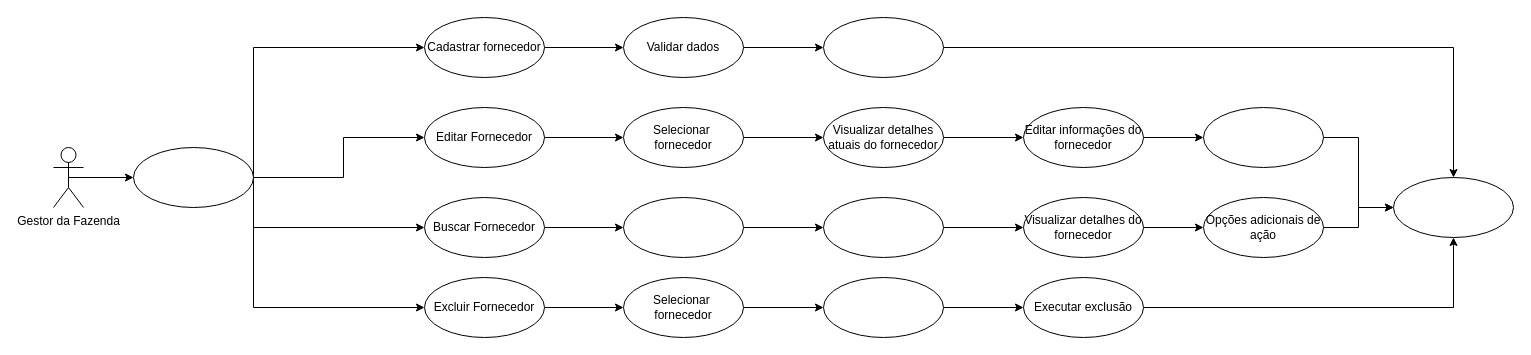
The diagram is 1531 pixels wide and 355 high, and some of its shapes have lost their labels. Each missing label, with the box of its shape:
Apresentar resultados da busca: (822, 196, 944, 258)
Confirmar exclusão: (822, 276, 944, 338)
Fornecedor: (132, 146, 254, 208)
Gerar identificador único: (822, 16, 944, 78)
Inserir critérios de busca: (622, 196, 744, 258)
Registrar data e hora: (1392, 176, 1514, 238)
Validar dados modificados: (1202, 106, 1324, 168)
